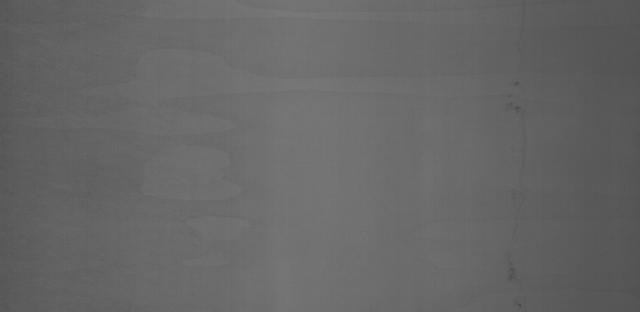water_spot: (482, 84, 535, 304)
